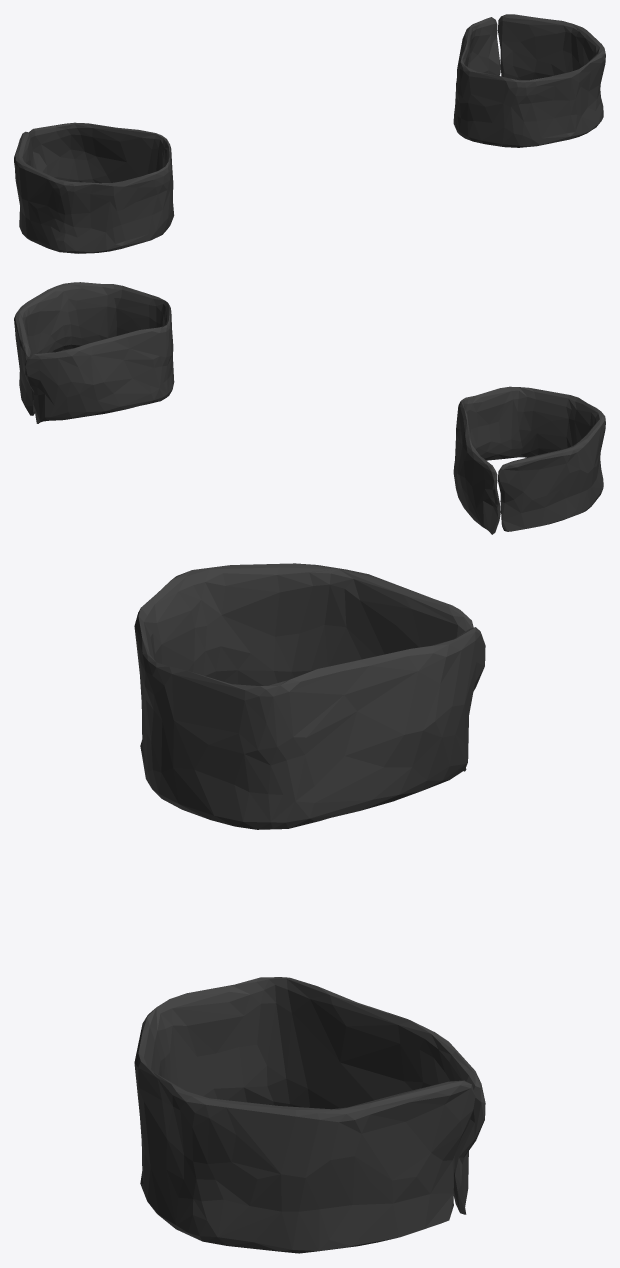
File: retinac_carpal_extensor.glb
3 views of the same model, one above another, from view 1: azimuth 30°, elevation 25°; view 2: azimuth 150°, elevation 25°; view 3: azimuth 270°, elevation 25° (orthographic). The views are drawn at different scales.
Parts seen in each view (by area): view 1: retinac_carpal_extensor; view 2: retinac_carpal_extensor; view 3: retinac_carpal_extensor.
Part boxes in pixels (x1=…): retinac_carpal_extensor: x1=14, y1=14, x2=605, y2=253; retinac_carpal_extensor: x1=14, y1=282, x2=605, y2=534; retinac_carpal_extensor: x1=134, y1=563, x2=485, y2=1253.
Bounding box in the file's own units: 0.00413 × 0.000578 × 0.00111.
Materials: 1 (1 with a texture image).
